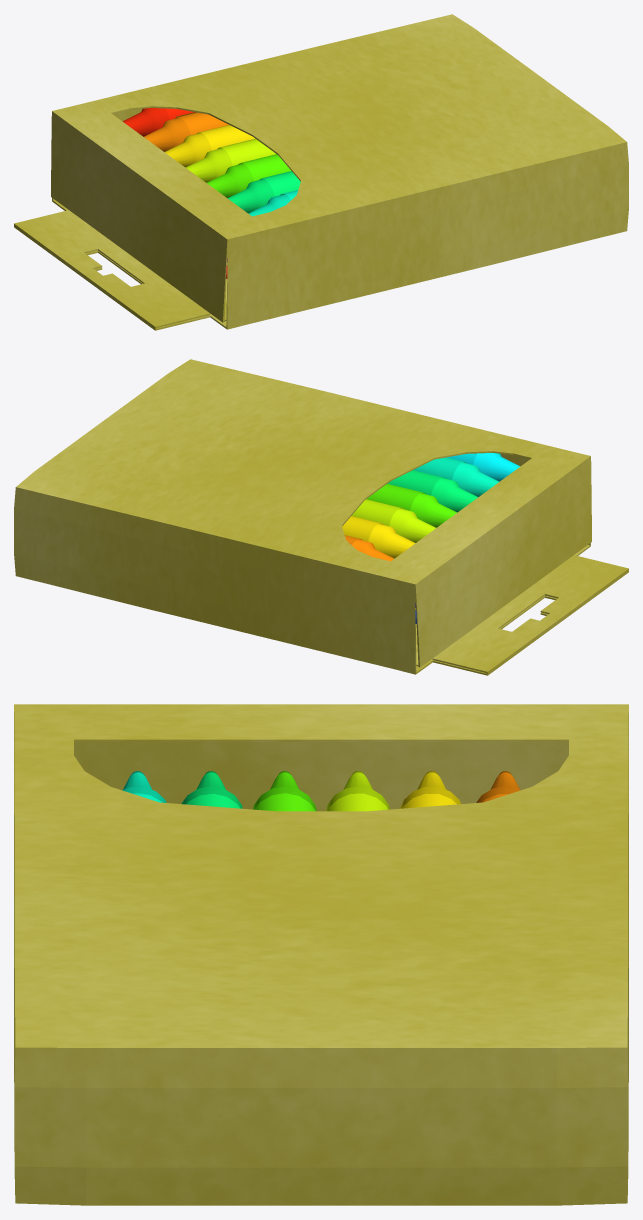
The model's file is Crayons_MPI01_fbx.fbx.
3 renders of one model, top to bottom at view 1: azimuth 30°, elevation 25°; view 2: azimuth 150°, elevation 25°; view 3: azimuth 270°, elevation 25°, orthographic. The views are drawn at different scales.
Visible parts, largest first — view 1: Crayons; view 2: Crayons; view 3: Crayons.
Part boxes in pixels (x1=…): Crayons: x1=14, y1=14, x2=628, y2=330; Crayons: x1=14, y1=359, x2=628, y2=675; Crayons: x1=14, y1=704, x2=628, y2=1205.
Bounding box in the file's own units: 12.75 × 2.41 × 8.47.
Materials: 1 (1 with a texture image).
